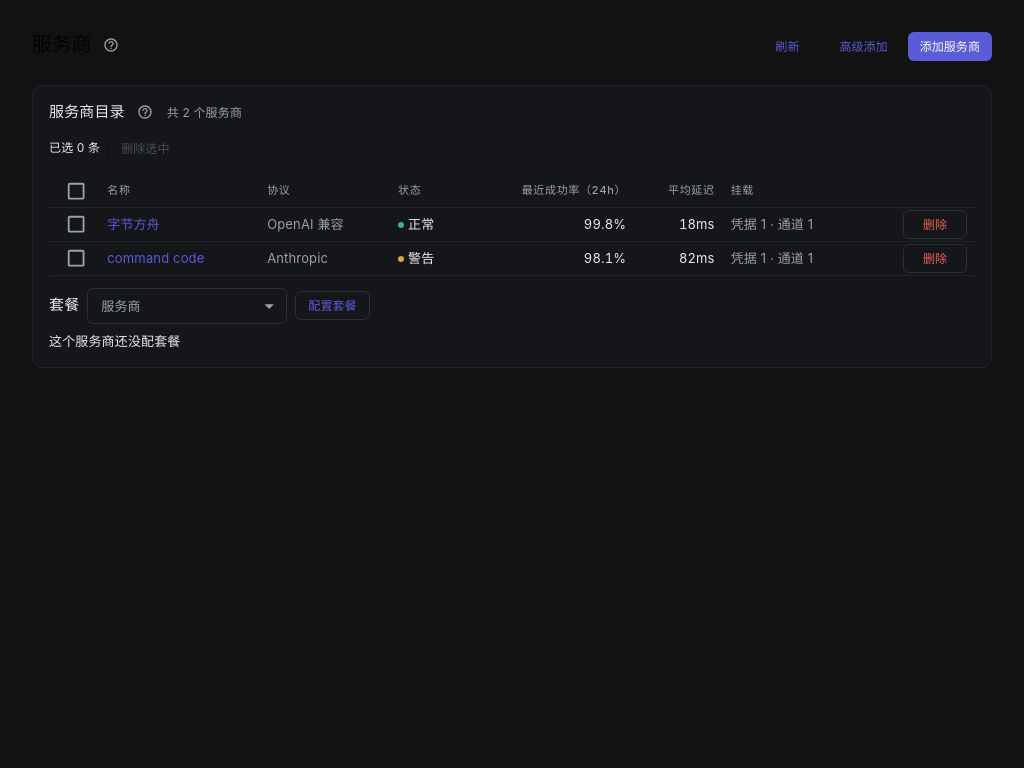
第 1 步：服务商信息 › 高级添加入口仍然保留着原来的单步对话框（字段 tid 一个都没变）
Expected: the text "字节方舟" is shown, [107, 216, 160, 232]
Click the button with test id "providers-add-advanced-open".
click(864, 47)  # box [827, 32, 900, 61]
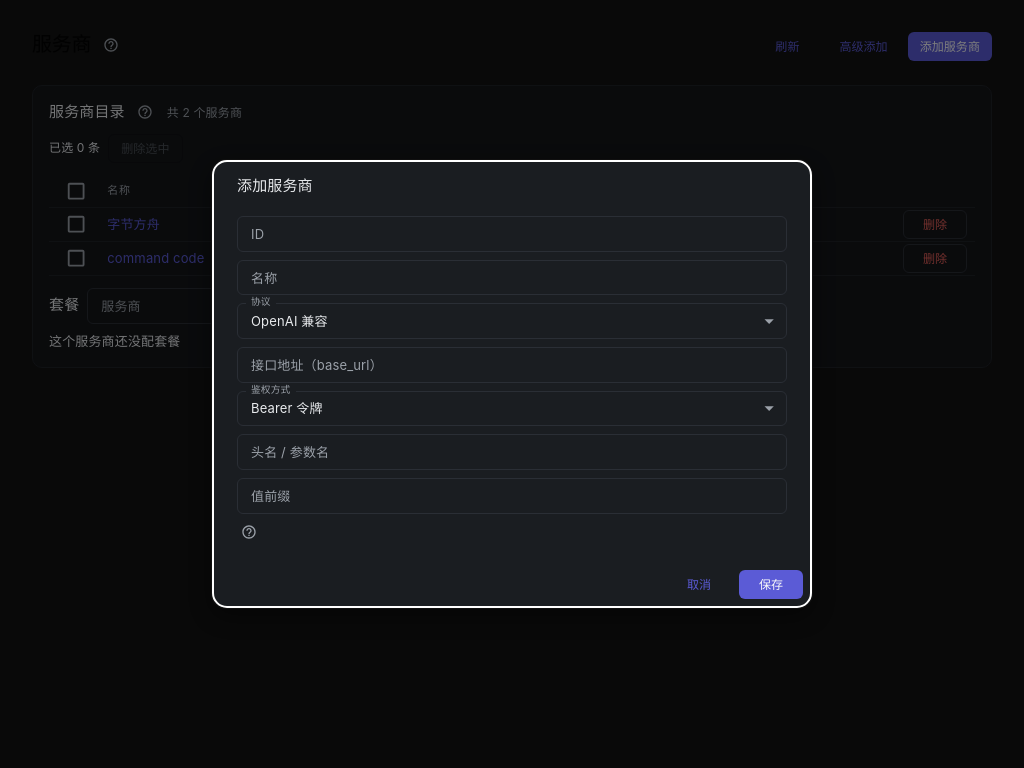
Now the element with test id "providers-add-id" is shown, box [237, 216, 787, 252]
Now the element with test id "providers-add-name" is shown, box [237, 260, 787, 295]
Now the element with test id "providers-add-baseUrl" is shown, box [237, 347, 787, 383]
